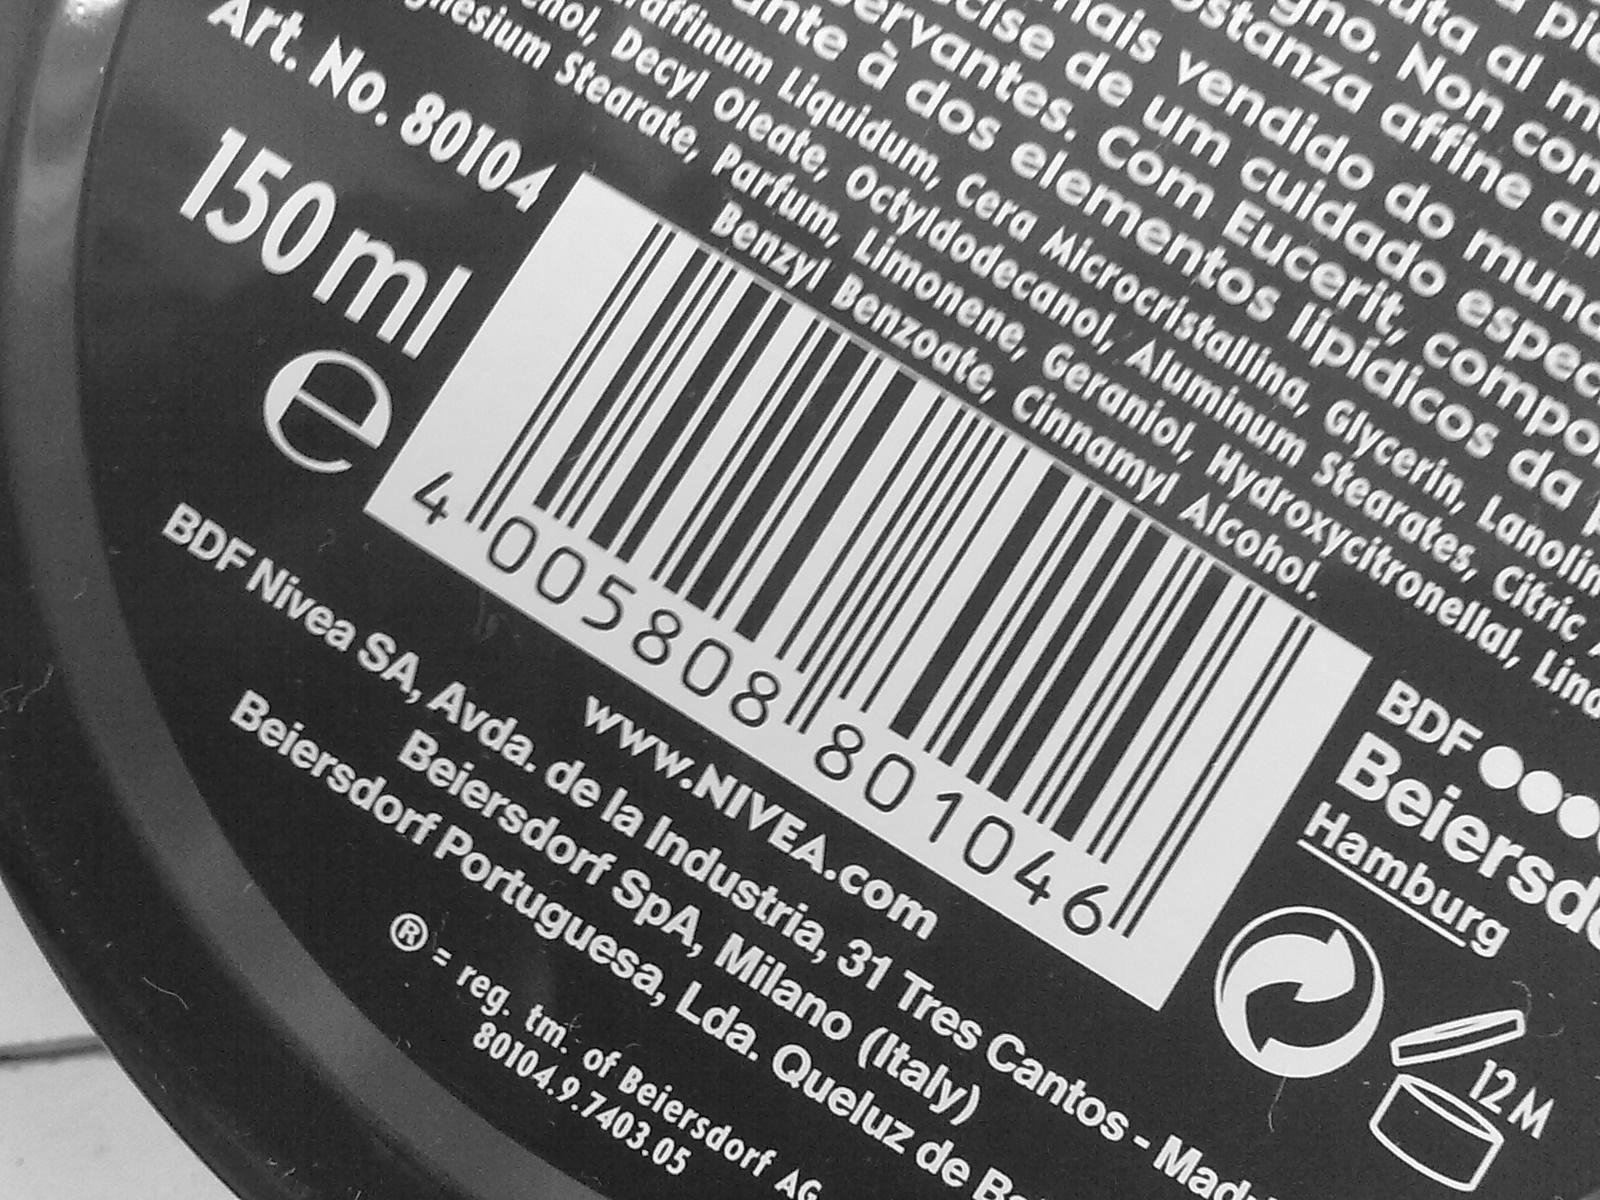Barcode: (433, 209, 1330, 965)
